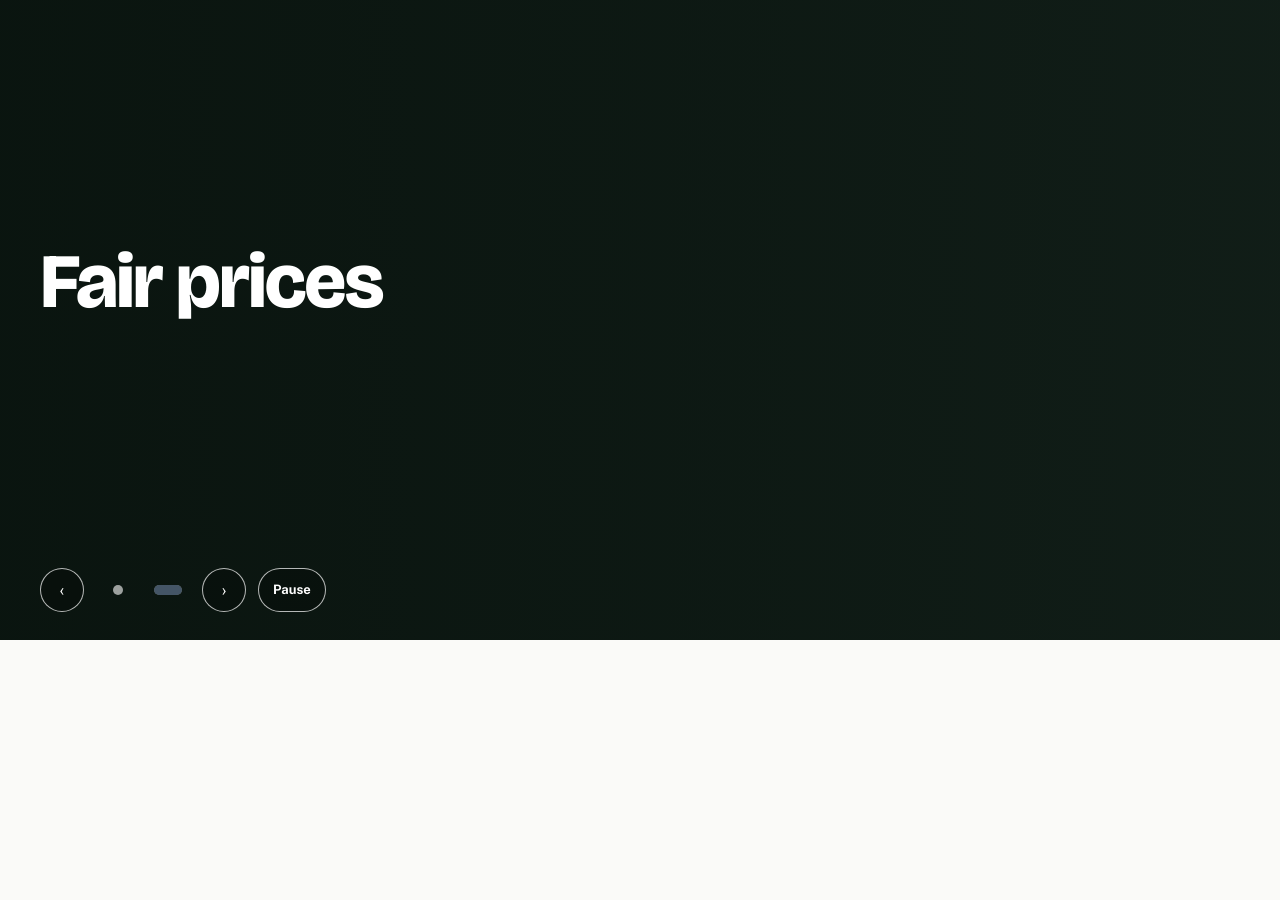
Test: the public site › turns the carousel every six seconds until paused, and opens any slide
Expected: the button named "Slide 2" is shown, [146,568,190,612]
Click the button "Pause": (292, 590) [258,568,326,612]
Wait 12000 ms
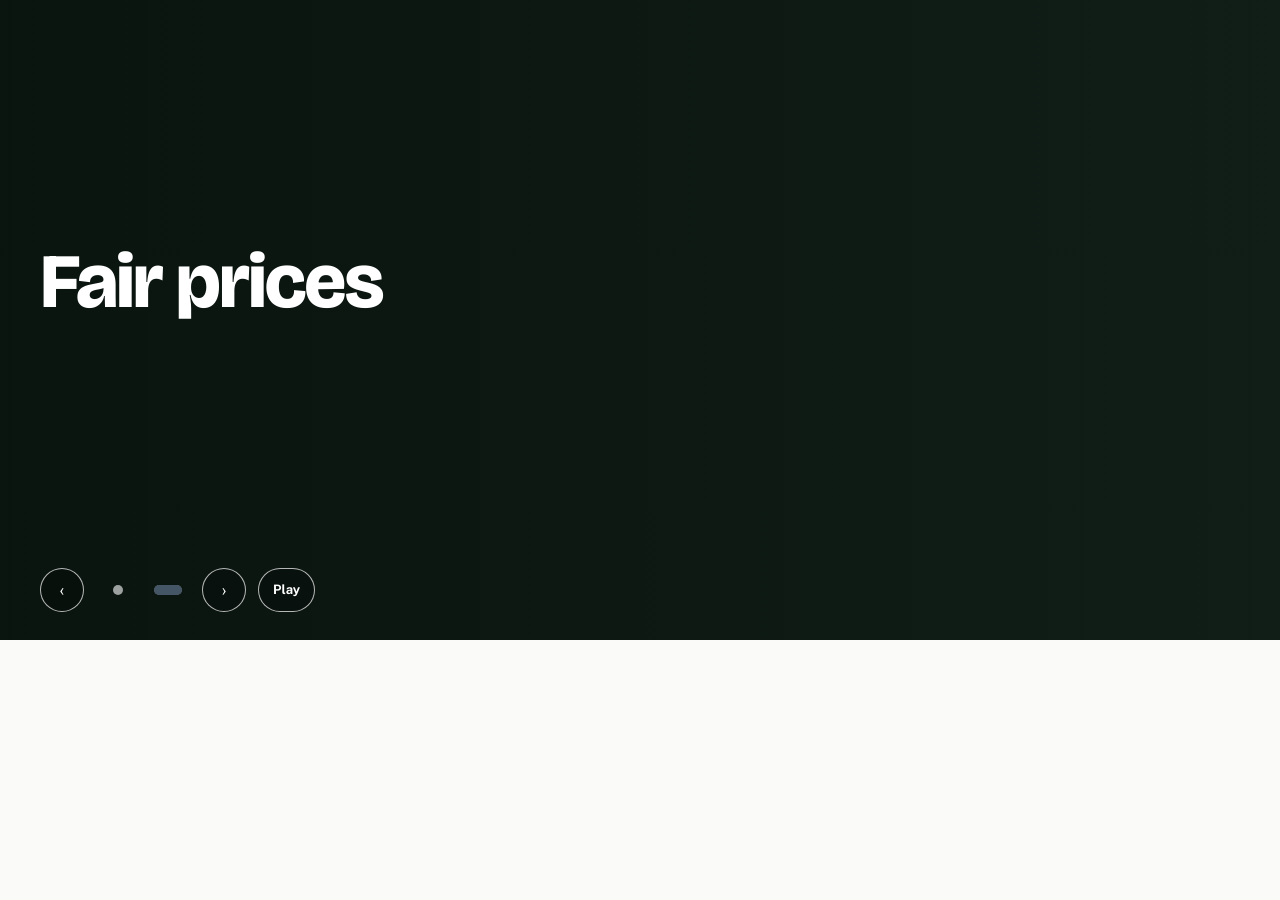
Expected: the heading reads "Fair prices", [40,236,382,328]
Click the button named "Slide 1": (118, 590) [96,568,140,612]
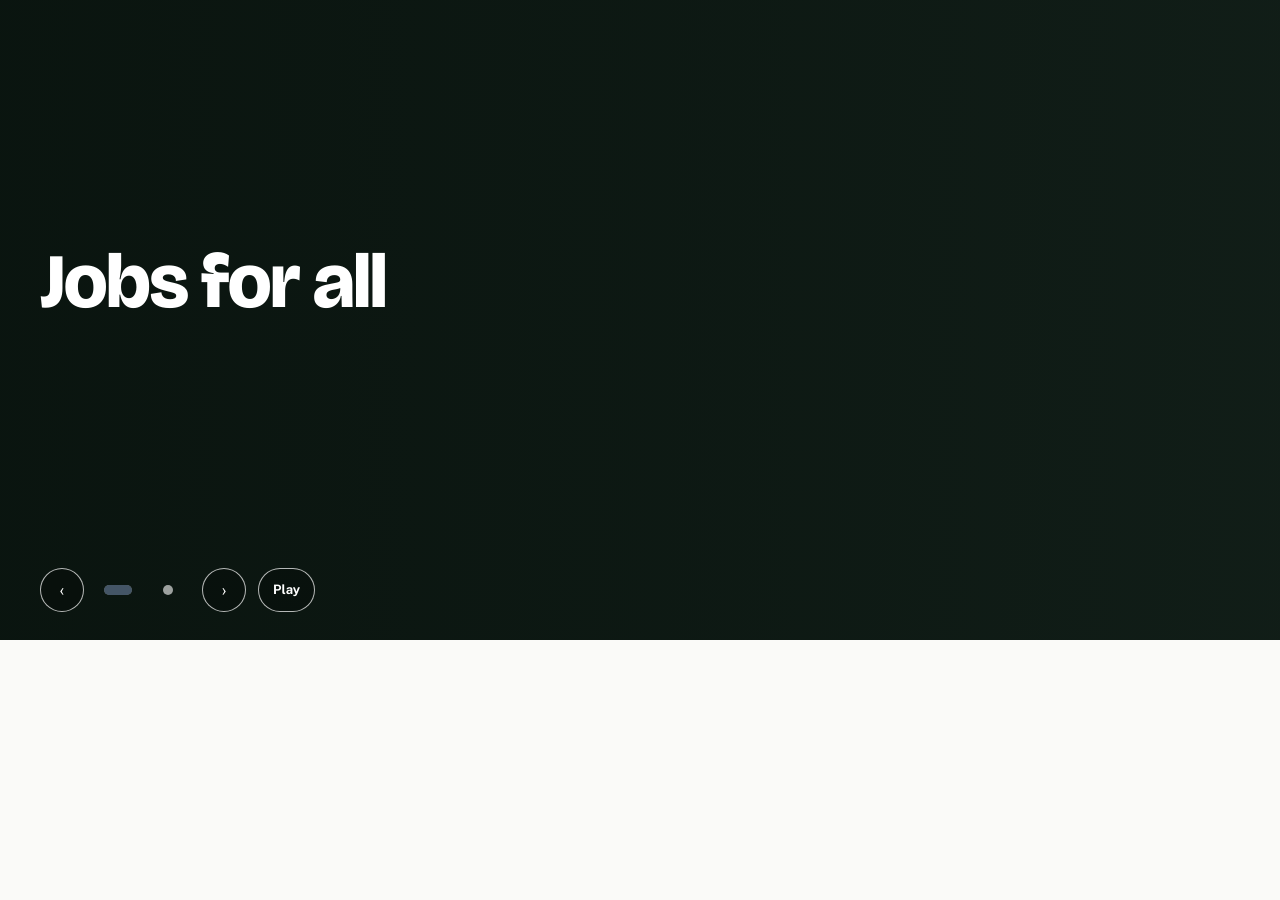
Expected: the heading reads "Jobs for all", [40,236,386,328]
